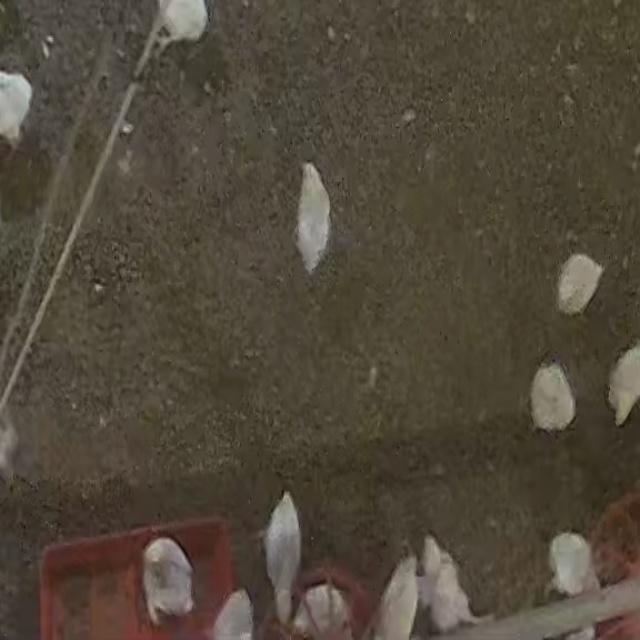chicken: (417, 538, 481, 631), (263, 490, 301, 623), (548, 531, 607, 611), (143, 536, 197, 622), (296, 161, 333, 279), (527, 364, 577, 432), (558, 253, 603, 317)
